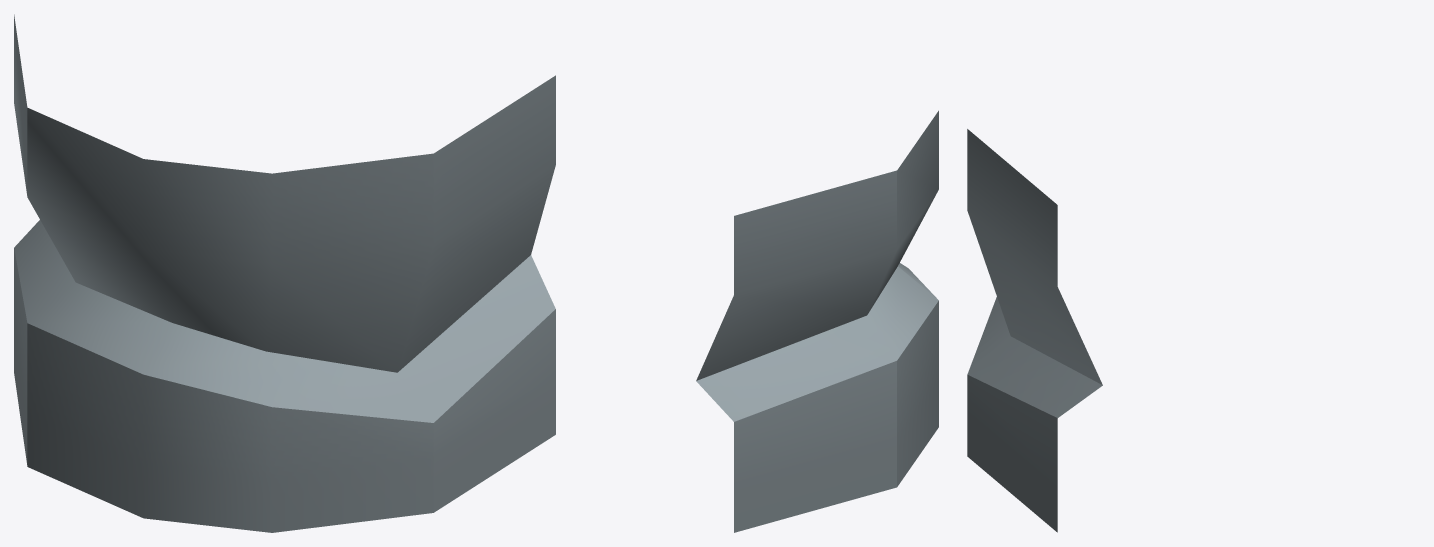
File: cliff_outer_g.glb
The picture shows the model from 3 angles, left to right: view 1: azimuth 30°, elevation 25°; view 2: azimuth 150°, elevation 25°; view 3: azimuth 270°, elevation 25°; orthographic projection. The views are drawn at different scales.
Visible parts, largest first — view 1: Hill_Cliff_G_OuterCorner_Color1; view 2: Hill_Cliff_G_OuterCorner_Color1; view 3: Hill_Cliff_G_OuterCorner_Color1.
Part boxes in pixels (x1,y1,x2,y2): Hill_Cliff_G_OuterCorner_Color1: (14,14,555,532); Hill_Cliff_G_OuterCorner_Color1: (696,110,938,532); Hill_Cliff_G_OuterCorner_Color1: (967,129,1102,532).
Size of the model in its own units: 2.5 by 2 by 2.5.
1 material, 1 textured.
